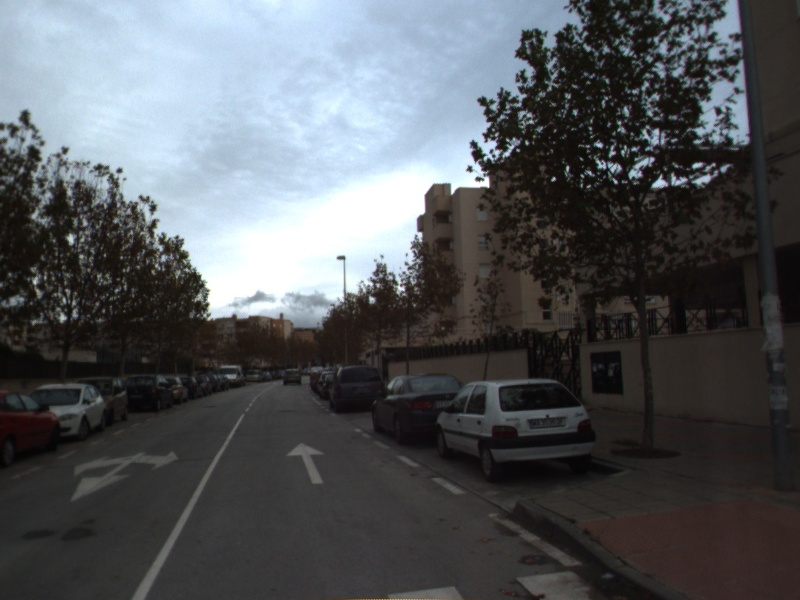STRAIGHT: (285, 441, 327, 485)
